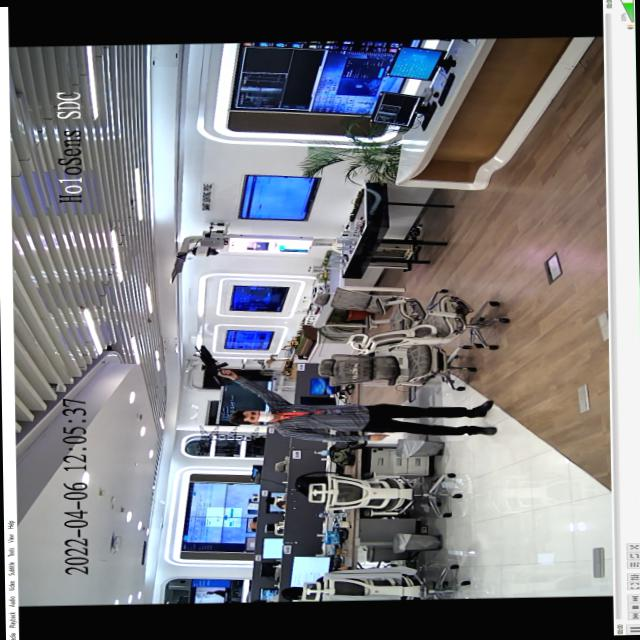long weapon: (188, 342, 240, 386)
